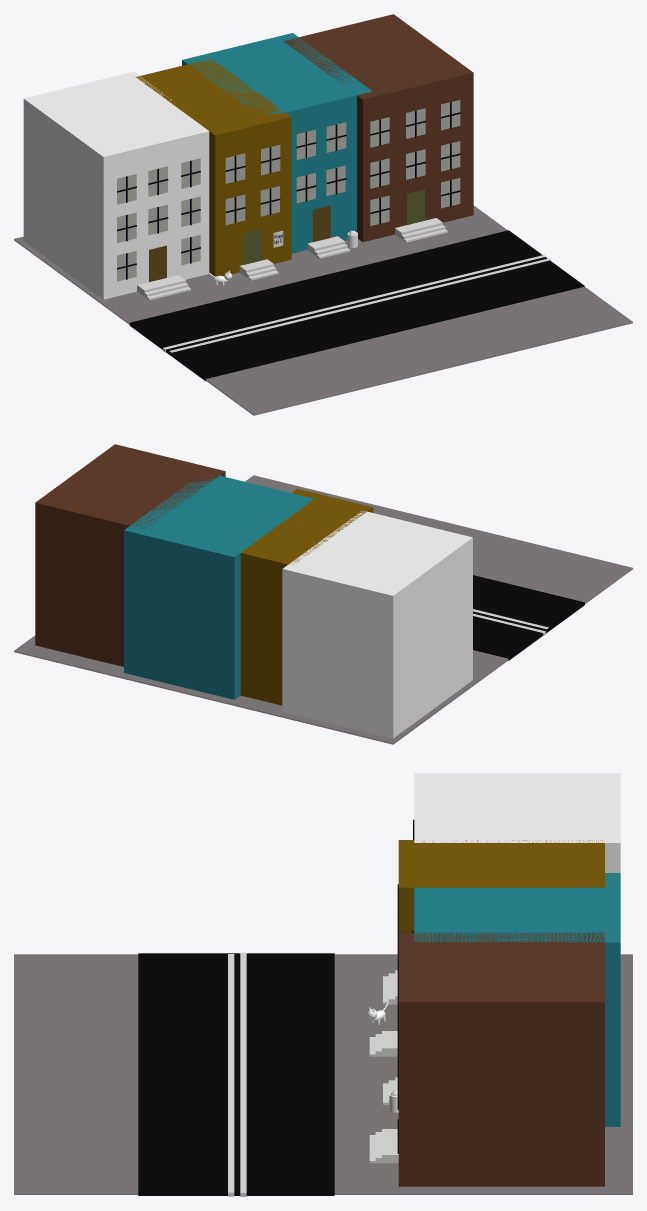
The picture shows the model from 3 angles, top to bottom: view 1: azimuth 30°, elevation 25°; view 2: azimuth 150°, elevation 25°; view 3: azimuth 270°, elevation 25°; orthographic projection. The views are drawn at different scales.
Parts seen in each view (by area): view 1: gound, yellow build, red build, orange build, green build; view 2: yellow build, green build, red build, gound, orange build; view 3: gound, red build, yellow build, green build, orange build.
Boxes of the visible parts, <box> form: gound: <box>14,205,632,415</box>; yellow build: <box>23,71,209,300</box>; red build: <box>283,14,473,242</box>; orange build: <box>136,58,291,280</box>; green build: <box>182,33,372,258</box>; yellow build: <box>282,511,472,738</box>; green build: <box>124,473,314,699</box>; red build: <box>35,444,225,666</box>; gound: <box>14,475,632,744</box>; orange build: <box>240,488,373,705</box>; gound: <box>14,952,632,1196</box>; red build: <box>369,932,604,1186</box>; yellow build: <box>383,773,620,1004</box>; green build: <box>383,873,620,1126</box>; orange build: <box>369,840,604,1056</box>.
Bounding box in the file's own units: 5.51 × 2 × 6.
